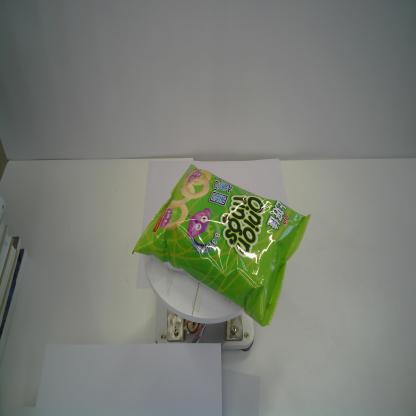Puffed Food: (130, 163, 312, 328)
